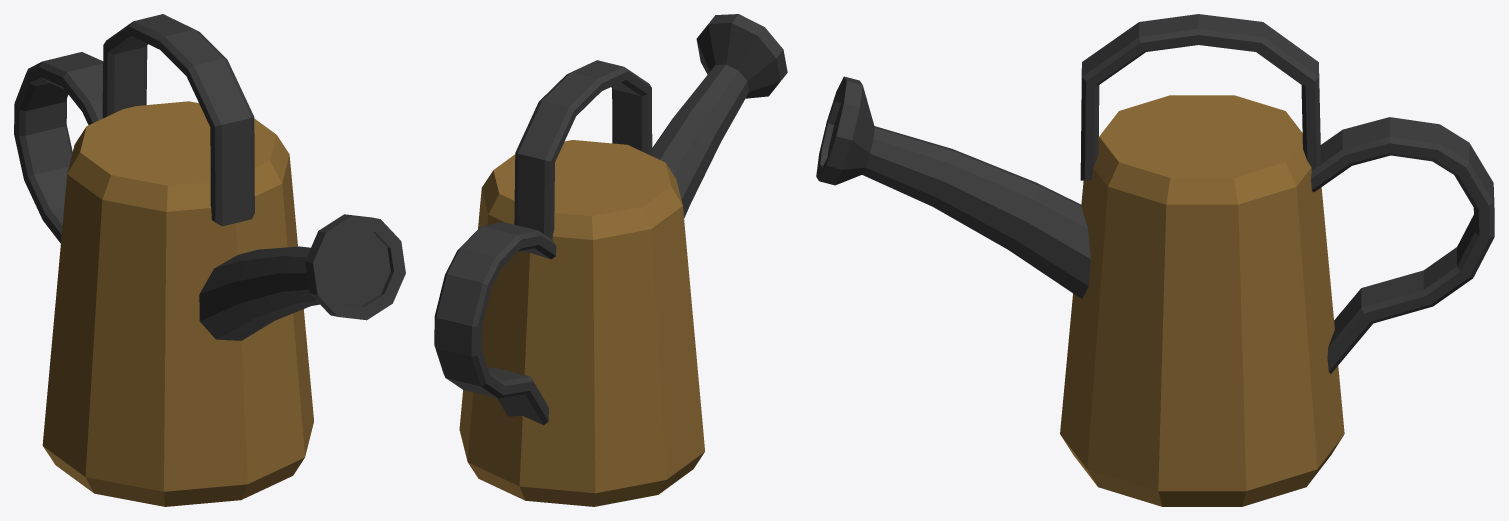
Rendered from watersprinkler_a005.glb.
3 renders of one model, left to right at view 1: azimuth 30°, elevation 25°; view 2: azimuth 150°, elevation 25°; view 3: azimuth 270°, elevation 25°, orthographic. The views are drawn at different scales.
Visible parts, largest first — view 1: watersprinkler_a005; view 2: watersprinkler_a005; view 3: watersprinkler_a005.
Boxes of the visible parts, bbox=[...] form: watersprinkler_a005: bbox=[14, 14, 405, 506]; watersprinkler_a005: bbox=[434, 14, 787, 506]; watersprinkler_a005: bbox=[816, 14, 1494, 506].
Size of the model in its own units: 0.1934 by 0.3417 by 0.4848.
Materials: 1 (1 with a texture image).
